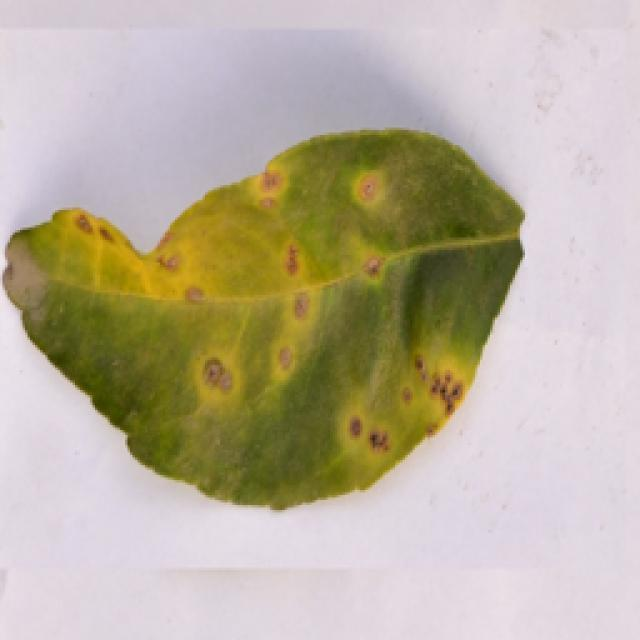canker: (30, 140, 533, 508)
